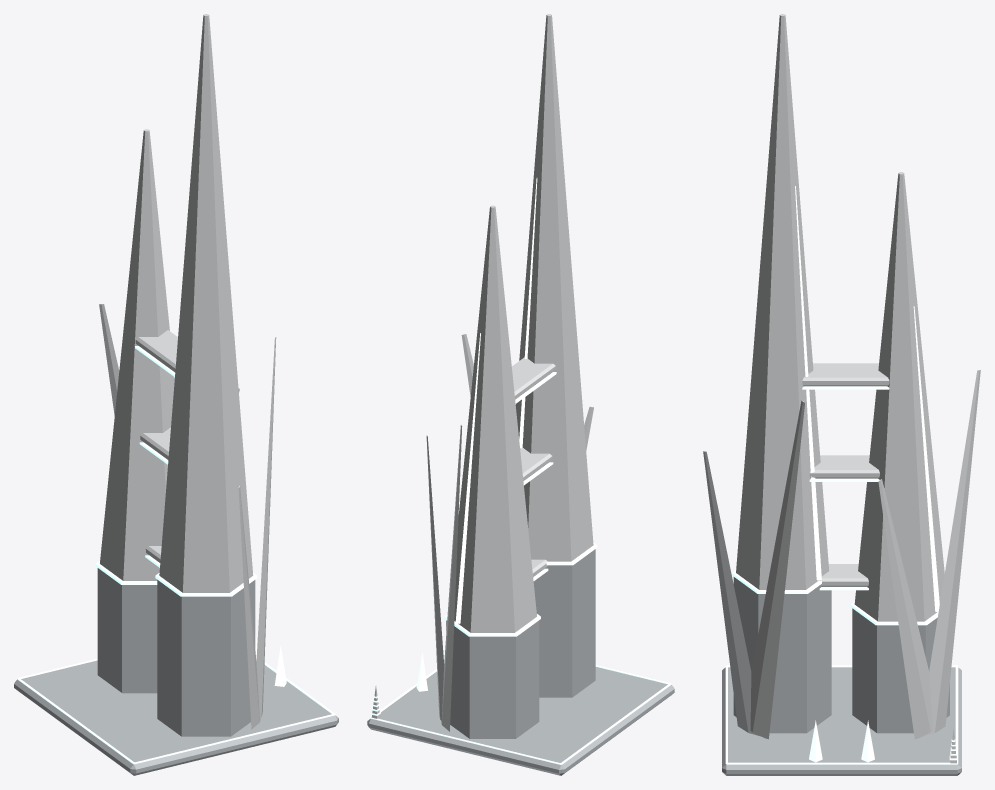
Rendered from zone_high_6_t5.glb.
The picture shows the model from 3 angles, left to right: view 1: azimuth 30°, elevation 25°; view 2: azimuth 150°, elevation 25°; view 3: azimuth 270°, elevation 25°; orthographic projection. The views are drawn at different scales.
Visible parts, largest first — view 1: zone_high_6_t5, detail; view 2: zone_high_6_t5, detail; view 3: zone_high_6_t5, detail.
Part boxes in pixels (bbox=[...]): zone_high_6_t5: bbox=[14, 14, 338, 775]; detail: bbox=[17, 658, 335, 764]; zone_high_6_t5: bbox=[367, 14, 674, 775]; detail: bbox=[370, 665, 671, 764]; zone_high_6_t5: bbox=[703, 14, 980, 775]; detail: bbox=[725, 665, 958, 764].
Bounding box in the file's own units: 27.5 × 90.35 × 31.84.
